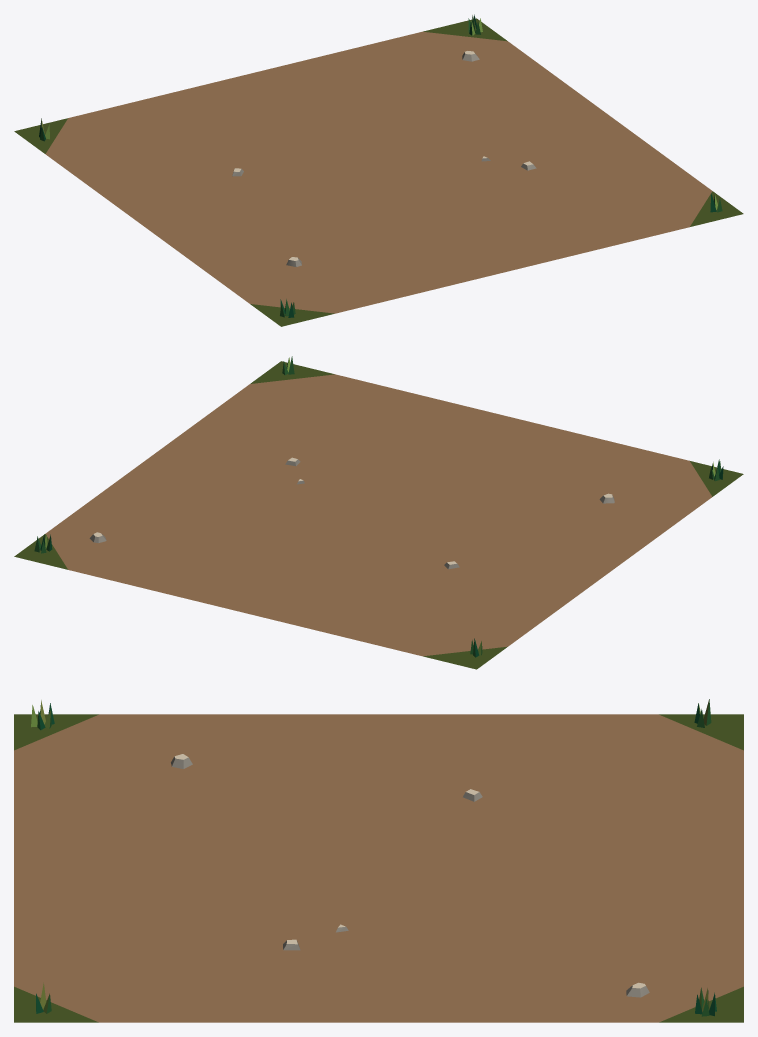
File: TB_Env_GroundDC.FBX
The picture shows the model from 3 angles, top to bottom: view 1: azimuth 30°, elevation 25°; view 2: azimuth 150°, elevation 25°; view 3: azimuth 270°, elevation 25°; orthographic projection. The views are drawn at different scales.
Parts seen in each view (by area): view 1: TB_Env_GroundDC; view 2: TB_Env_GroundDC; view 3: TB_Env_GroundDC.
Part boxes in pixels (<box>): TB_Env_GroundDC: <box>14,14,743,326</box>; TB_Env_GroundDC: <box>14,356,743,669</box>; TB_Env_GroundDC: <box>14,699,743,1022</box>.
Size of the model in its own units: 10 by 0.394 by 10.
